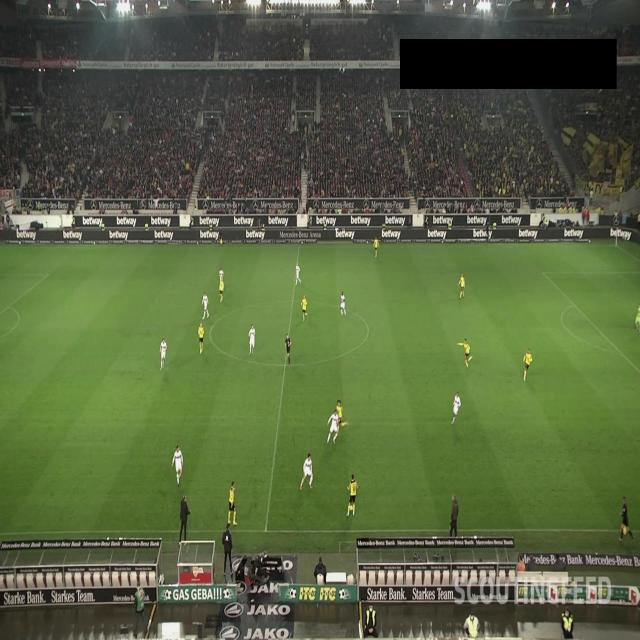ball: (349, 503, 354, 512)
player: (345, 473, 359, 518), (300, 453, 314, 491), (171, 444, 183, 486), (228, 481, 238, 527), (457, 338, 472, 368), (326, 410, 339, 444), (451, 390, 462, 426), (523, 348, 533, 382), (336, 400, 346, 430), (159, 338, 167, 370), (202, 292, 210, 320), (248, 323, 255, 355), (198, 322, 205, 354), (458, 272, 466, 299), (339, 291, 346, 317), (302, 294, 308, 321), (218, 278, 224, 304), (635, 304, 640, 334), (296, 262, 302, 286), (218, 267, 224, 290), (374, 236, 379, 258)
referee: (618, 496, 634, 542), (284, 334, 292, 364), (219, 226, 224, 246)
